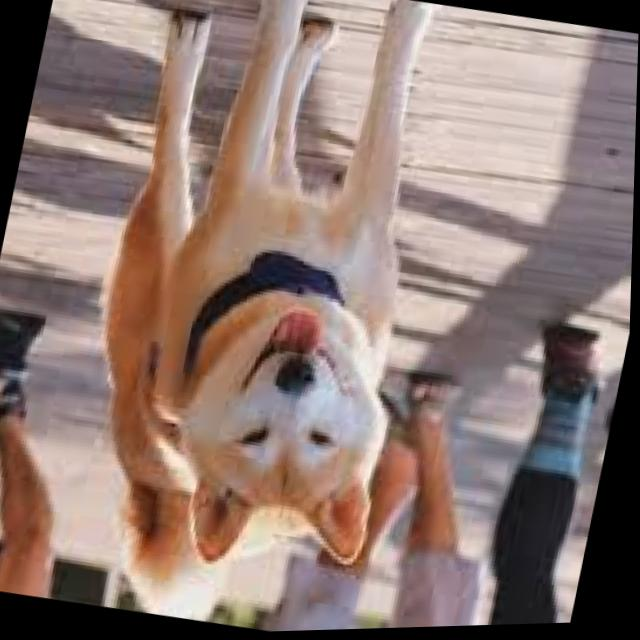Shiba-Inu: (46, 1, 473, 640)
